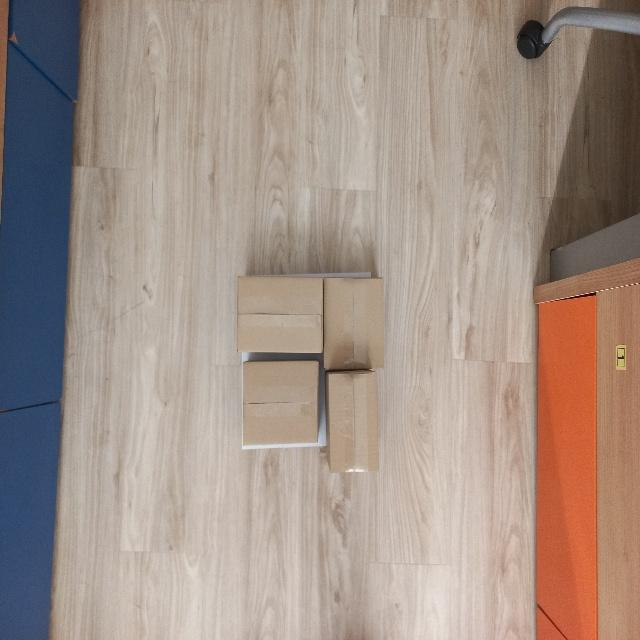box: (241, 357, 323, 448), (235, 273, 325, 355), (322, 274, 388, 372), (323, 370, 381, 474)
